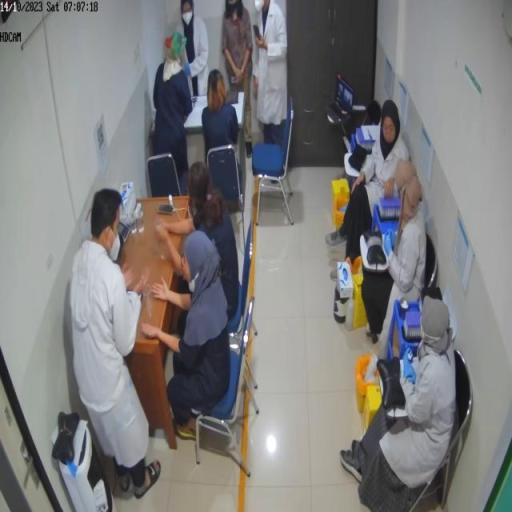person: (71, 190, 162, 495), (340, 298, 458, 501), (144, 228, 232, 444), (326, 101, 411, 263), (155, 163, 241, 319), (362, 171, 427, 351), (153, 33, 194, 197), (252, 1, 289, 151), (222, 4, 254, 155), (203, 69, 240, 165), (182, 2, 211, 99)
